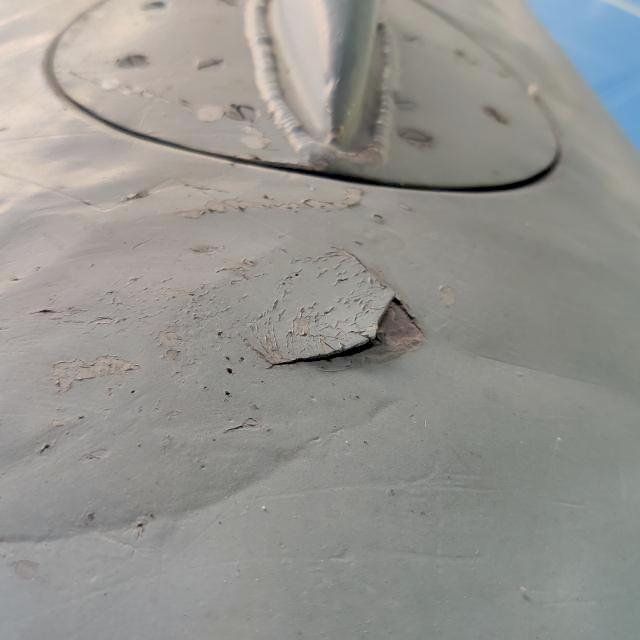crack: (246, 238, 444, 394)
